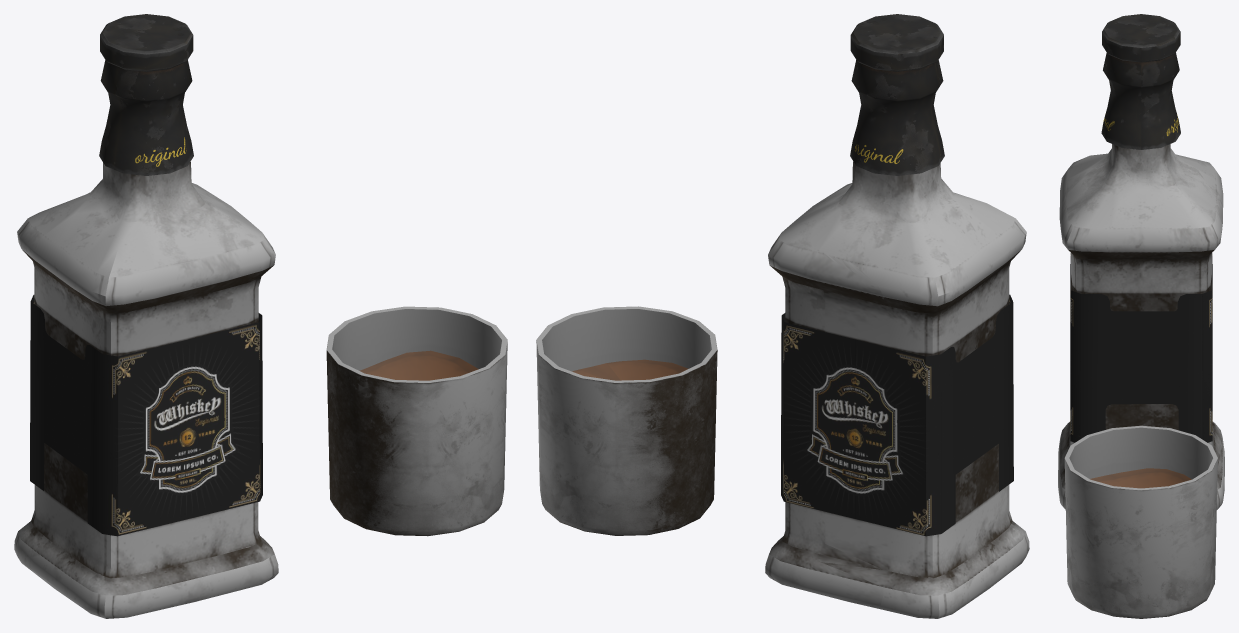
The model's file is whiskey.glb.
3 views of the same model, side by side, from view 1: azimuth 30°, elevation 25°; view 2: azimuth 150°, elevation 25°; view 3: azimuth 270°, elevation 25° (orthographic). The views are drawn at different scales.
Visible parts, largest first — view 1: Cube.002, Cube.000, Cylinder, Cylinder.002, Cylinder.001; view 2: Cube.002, Cube.000, Cylinder, Cylinder.002, Cylinder.001; view 3: Cylinder, Cube.002, Cube.000, Cylinder.002, Cylinder.001.
Part boxes in pixels (left/top/right/bottom): Cube.002: left=14, top=162, right=278, bottom=618; Cube.000: left=30, top=295, right=262, bottom=536; Cylinder: left=326, top=306, right=507, bottom=536; Cylinder.002: left=99, top=14, right=193, bottom=175; Cylinder.001: left=360, top=351, right=478, bottom=380; Cube.002: left=765, top=161, right=1029, bottom=618; Cube.000: left=781, top=294, right=1013, bottom=536; Cylinder: left=536, top=306, right=717, bottom=535; Cylinder.002: left=850, top=14, right=944, bottom=175; Cylinder.001: left=572, top=360, right=687, bottom=380; Cylinder: left=1064, top=425, right=1217, bottom=618; Cube.002: left=1058, top=144, right=1224, bottom=509; Cube.000: left=1070, top=253, right=1212, bottom=442; Cylinder.002: left=1101, top=14, right=1180, bottom=149; Cylinder.001: left=1090, top=468, right=1191, bottom=487.
Bounding box in the file's own units: 1.29 × 1.49 × 0.4985.
Materials: 4 (4 with a texture image).
